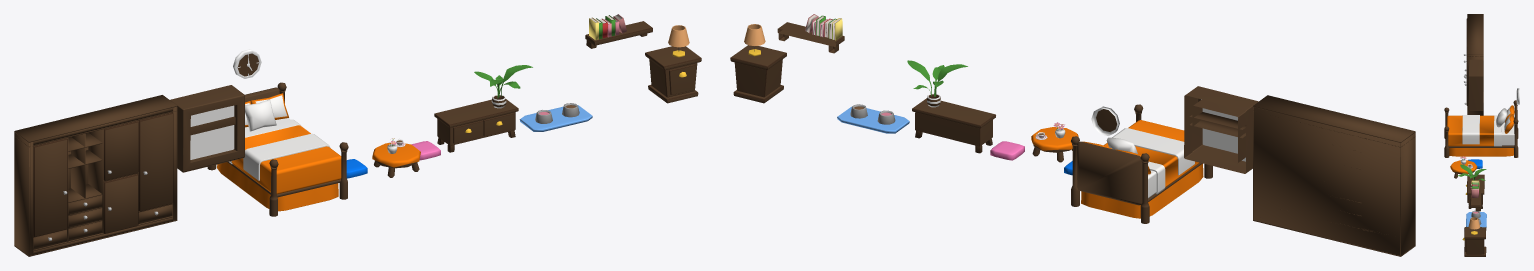
Rendered from Boy_Room.fbx.
3 renders of one model, left to right at view 1: azimuth 30°, elevation 25°; view 2: azimuth 150°, elevation 25°; view 3: azimuth 270°, elevation 25°, orthographic. The views are drawn at different scales.
Parts seen in each view (by area): view 1: wardrobe, Bed, Window, Table_03, Side_Table, Pet_Bowl, Table_02, Pillow_03, Pot_03, Book_Shelve, Clock, Table_Lamp (+1 smaller); view 2: wardrobe, Bed, Window, Table_03, Side_Table, Pet_Bowl, Table_02, Pot_03, Book_Shelve, Clock, sitting_cushion_01, Table_Lamp; view 3: Bed, wardrobe, Window, Side_Table, Table_03, Table_02, Pet_Bowl, Pot_03, Book_Shelve, Table_Lamp, Pillow_03, Pillow_01 (+4 smaller).
Part boxes in pixels (box(x1,y1,x2,y2)): wardrobe: box(14, 95, 177, 256); Bed: box(207, 82, 348, 216); Window: box(170, 85, 244, 172); Table_03: box(434, 99, 518, 152); Side_Table: box(645, 46, 701, 103); Pet_Bowl: box(519, 103, 592, 131); Table_02: box(372, 143, 420, 177); Pillow_03: box(245, 99, 276, 131); Pot_03: box(474, 65, 532, 108); Book_Shelve: box(585, 21, 652, 48); Clock: box(233, 49, 261, 78); Table_Lamp: box(668, 25, 689, 57); wardrobe: box(1253, 95, 1415, 256); Bed: box(1071, 104, 1212, 223); Window: box(1184, 86, 1258, 173); Table_03: box(912, 98, 995, 153); Side_Table: box(730, 45, 786, 103); Pet_Bowl: box(837, 104, 909, 133); Table_02: box(1031, 127, 1078, 162); Pot_03: box(907, 60, 967, 107); Book_Shelve: box(777, 22, 844, 53); Clock: box(1091, 106, 1119, 135); sitting_cushion_01: box(990, 141, 1024, 160); Table_Lamp: box(744, 24, 765, 56); Bed: box(1444, 100, 1518, 157); wardrobe: box(1464, 14, 1483, 115); Window: box(1468, 59, 1483, 110); Side_Table: box(1462, 227, 1486, 256); Table_03: box(1465, 174, 1484, 208); Table_02: box(1450, 160, 1477, 178); Pet_Bowl: box(1466, 210, 1486, 227); Pot_03: box(1457, 164, 1486, 188); Book_Shelve: box(1470, 190, 1480, 211); Table_Lamp: box(1468, 217, 1480, 234); Pillow_03: box(1496, 108, 1507, 127); Pillow_01: box(1504, 114, 1514, 133).
Bounding box in the file's own units: 1523 × 250 × 269.
